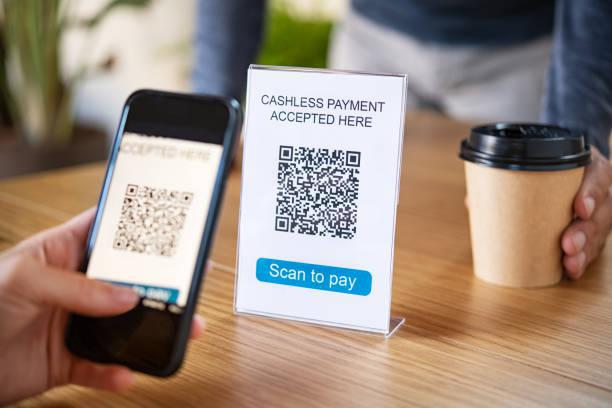Finder pattern: (274, 143, 296, 164), (342, 149, 364, 170), (271, 213, 293, 234), (177, 189, 195, 207), (122, 182, 141, 199), (111, 237, 129, 254)
